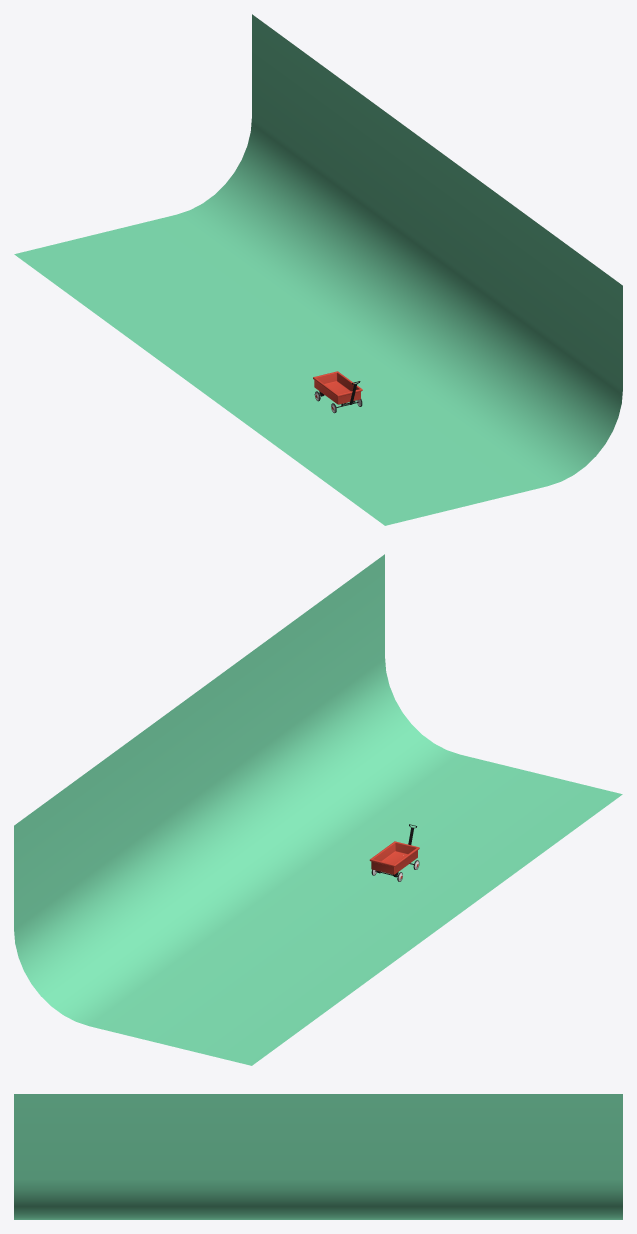
Rendered from Red+Wagon.fbx.
The picture shows the model from 3 angles, top to bottom: view 1: azimuth 30°, elevation 25°; view 2: azimuth 150°, elevation 25°; view 3: azimuth 270°, elevation 25°; orthographic projection. The views are drawn at different scales.
Parts seen in each view (by area): view 1: Plane, body; view 2: Plane, body; view 3: Plane.
Boxes of the visible parts, <box> form: Plane: <box>14,14,622,525</box>; body: <box>313,371,362,404</box>; Plane: <box>14,554,622,1065</box>; body: <box>369,841,419,874</box>; Plane: <box>14,1094,622,1219</box>.
Size of the model in its own units: 460 by 337 by 1243.
